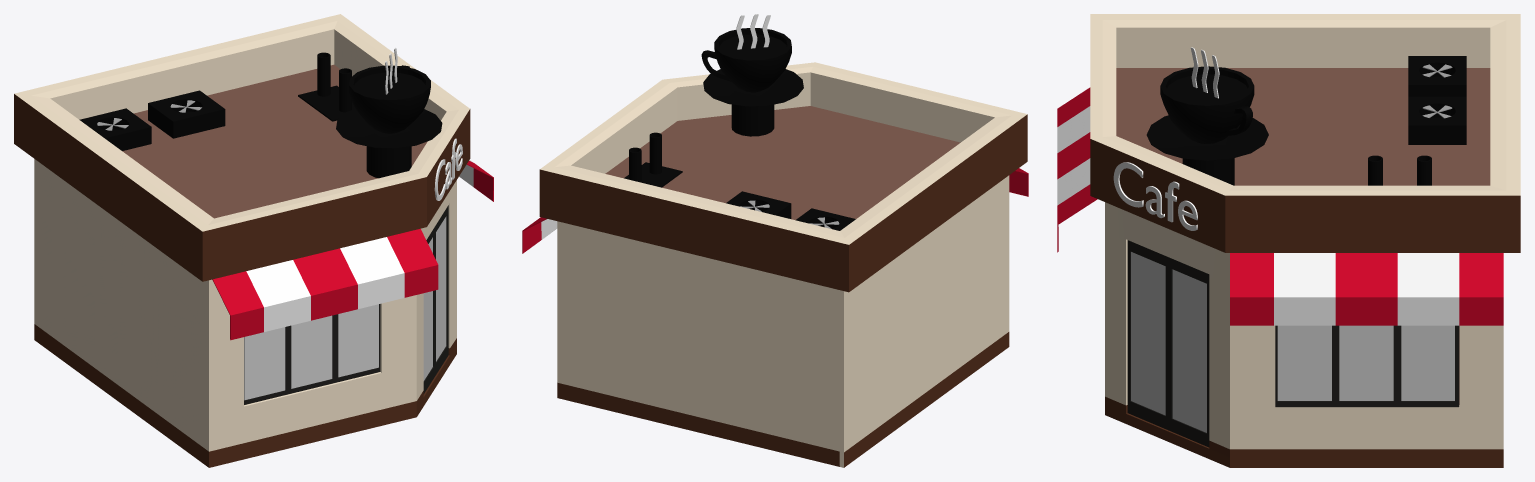
The model's file is Cafe.fbx.
The picture shows the model from 3 angles, left to right: view 1: azimuth 30°, elevation 25°; view 2: azimuth 150°, elevation 25°; view 3: azimuth 270°, elevation 25°; orthographic projection. The views are drawn at different scales.
Visible parts, largest first — view 1: Roof1, Cafe_Structure, RoofProps, Cafe_Parasol1, Cafe_Windows1, L_Door, R_Door, Cafe_Parasol; view 2: Cafe_Structure, Roof1, RoofProps, Cafe_Parasol; view 3: Roof1, Cafe_Structure, Cafe_Parasol, RoofProps, Cafe_Windows, L_Door, R_Door, Cafe_Parasol1.
Part boxes in pixels (left/top/right/bottom): Roof1: left=14, top=14, right=470, bottom=281; Cafe_Structure: left=34, top=159, right=456, bottom=467; RoofProps: left=79, top=47, right=462, bottom=200; Cafe_Parasol1: left=212, top=228, right=438, bottom=340; Cafe_Windows1: left=244, top=304, right=380, bottom=404; L_Door: left=435, top=205, right=448, bottom=375; R_Door: left=423, top=227, right=434, bottom=393; Cafe_Parasol: left=459, top=160, right=493, bottom=201; Cafe_Structure: left=557, top=175, right=1009, bottom=467; Roof1: left=539, top=62, right=1027, bottom=292; RoofProps: left=624, top=14, right=855, bottom=230; Cafe_Parasol: left=522, top=217, right=557, bottom=253; Roof1: left=1090, top=14, right=1520, bottom=252; Cafe_Structure: left=1105, top=202, right=1503, bottom=467; Cafe_Parasol: left=1230, top=253, right=1503, bottom=325; RoofProps: left=1113, top=47, right=1466, bottom=230; Cafe_Windows: left=1275, top=325, right=1459, bottom=407; L_Door: left=1168, top=257, right=1209, bottom=447; R_Door: left=1127, top=240, right=1168, bottom=430; Cafe_Parasol1: left=1057, top=87, right=1097, bottom=252.
Size of the model in its own units: 903 by 803 by 902.
